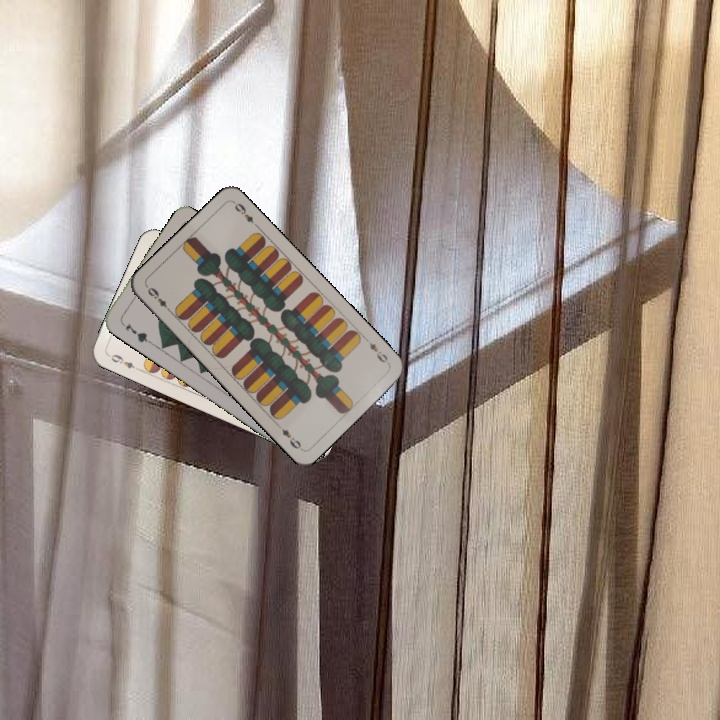E9: (361, 334, 392, 367), (143, 283, 174, 315), (104, 350, 137, 371)
G7: (121, 319, 153, 345)
